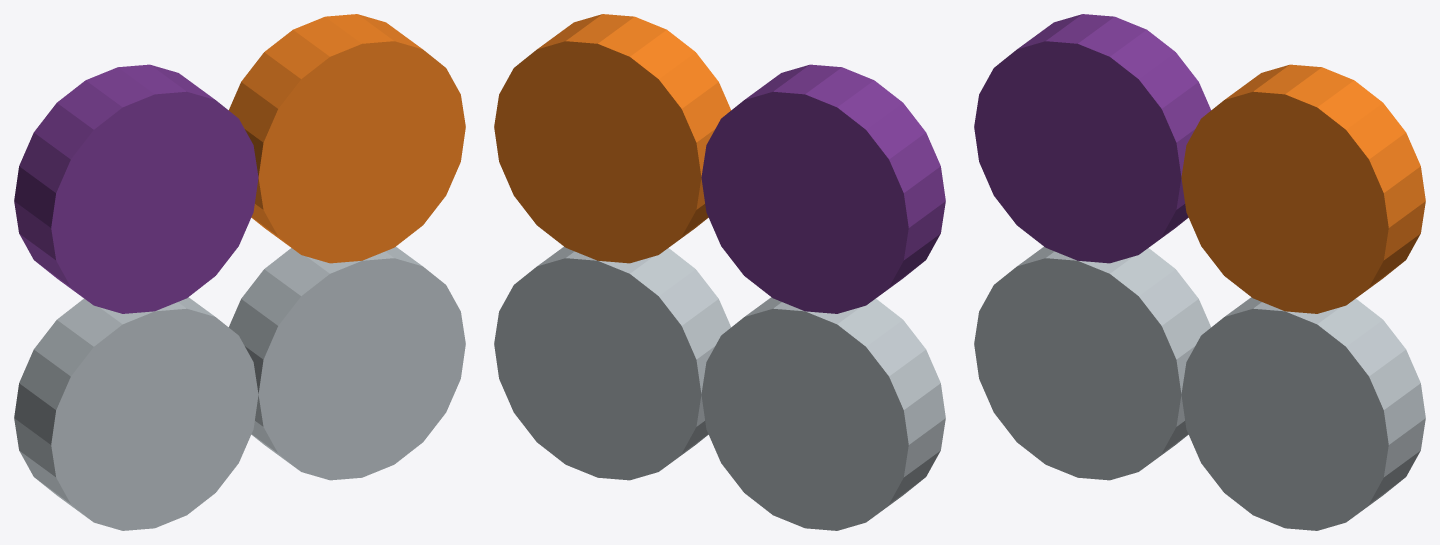
Rendered from tinker.obj.
3 views of the same model, side by side, from view 1: azimuth 30°, elevation 25°; view 2: azimuth 150°, elevation 25°; view 3: azimuth 330°, elevation 25° (orthographic).
Visible parts, largest first — view 1: group_0_12568524, group_0_8273816, group_0_16089887; view 2: group_0_12568524, group_0_8273816, group_0_16089887; view 3: group_0_12568524, group_0_16089887, group_0_8273816.
Boxes of the visible parts, <box> form: group_0_12568524: <box>14,247,465,530</box>; group_0_8273816: <box>14,64,258,313</box>; group_0_16089887: <box>228,14,465,263</box>; group_0_12568524: <box>494,247,945,530</box>; group_0_8273816: <box>701,64,945,313</box>; group_0_16089887: <box>494,14,731,263</box>; group_0_12568524: <box>974,247,1425,530</box>; group_0_16089887: <box>1181,64,1425,313</box>; group_0_8273816: <box>974,14,1211,263</box>.
Size of the model in its own units: 2 by 2 by 0.31.
